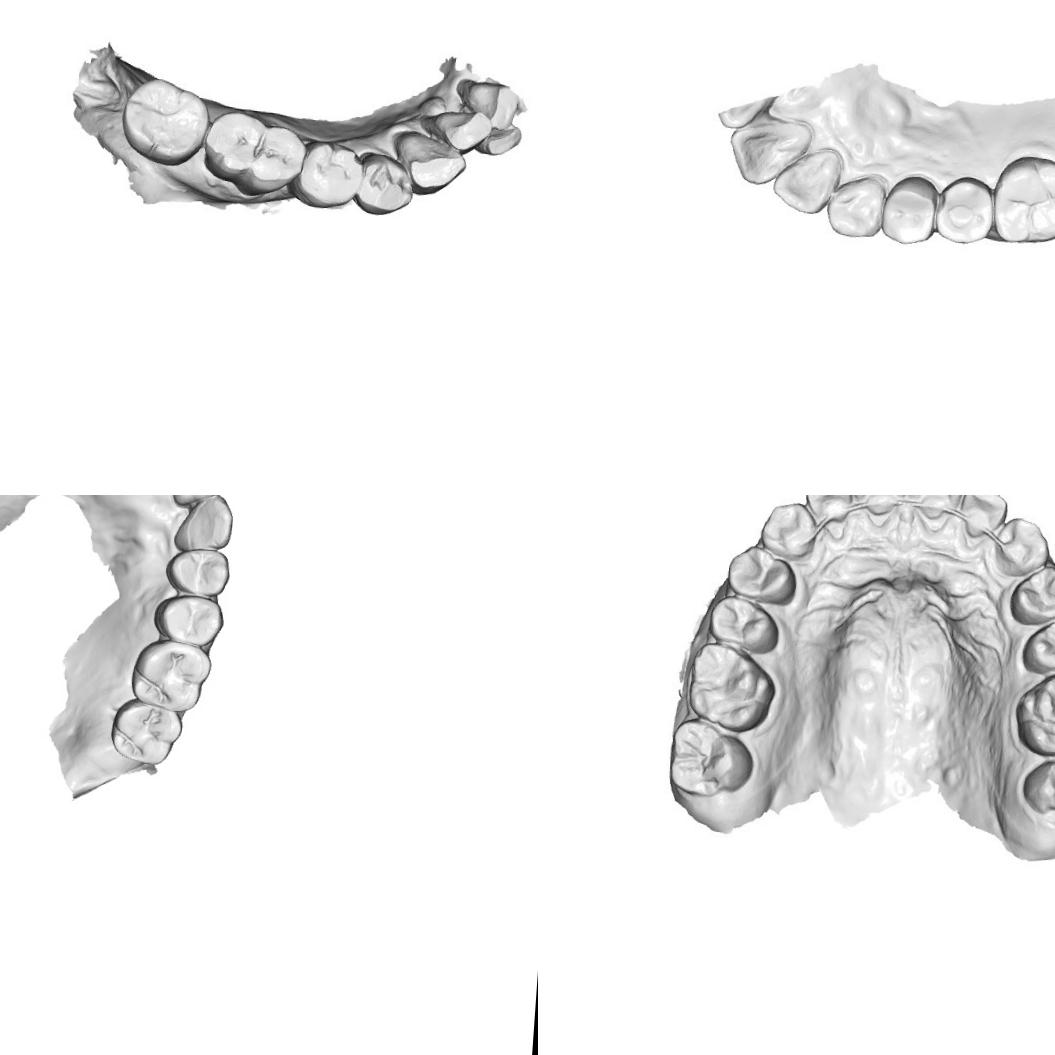canine: (392, 126, 464, 196), (821, 168, 889, 240), (167, 495, 238, 556), (992, 517, 1048, 573), (758, 500, 814, 555)
incisor: (725, 116, 810, 190), (766, 148, 840, 216), (454, 78, 518, 129), (428, 105, 490, 154), (957, 495, 1010, 540), (471, 122, 524, 158), (904, 495, 965, 522), (804, 495, 855, 523), (849, 495, 906, 515), (169, 495, 230, 509)
molar: (204, 101, 302, 194), (684, 640, 778, 736), (126, 78, 208, 158), (667, 719, 751, 797), (988, 151, 1055, 246), (128, 638, 212, 713), (107, 698, 184, 767), (1016, 668, 1055, 763), (1020, 747, 1055, 830)
premolar: (708, 594, 788, 660), (298, 138, 363, 210), (932, 172, 995, 246), (728, 548, 802, 608), (880, 174, 939, 246), (151, 592, 226, 648), (356, 147, 412, 217), (163, 544, 231, 598), (1010, 565, 1055, 624), (1018, 614, 1055, 674)
